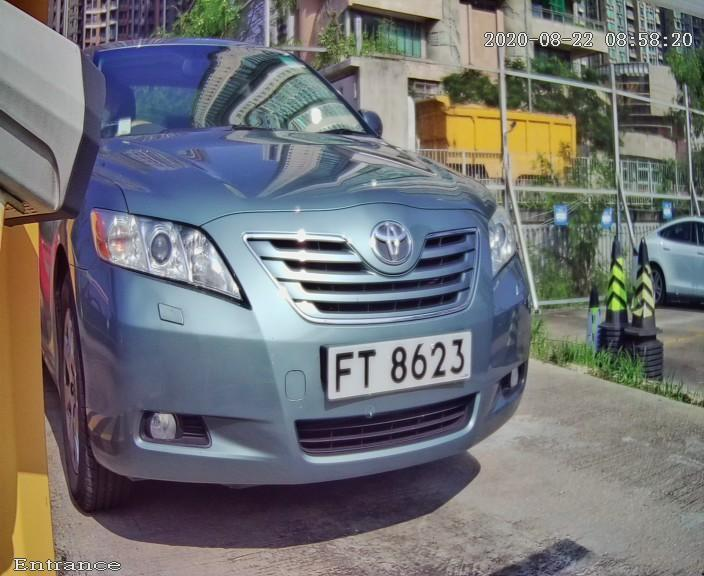License Plate: (312, 319, 475, 409)
